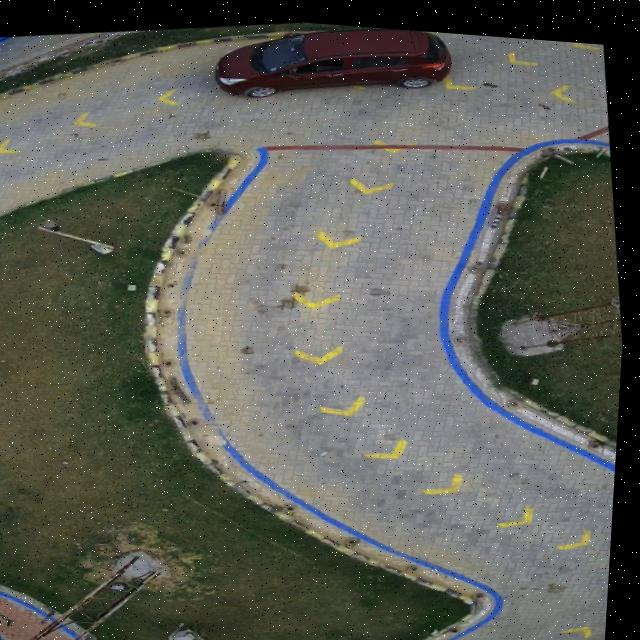car: (214, 22, 451, 94)
